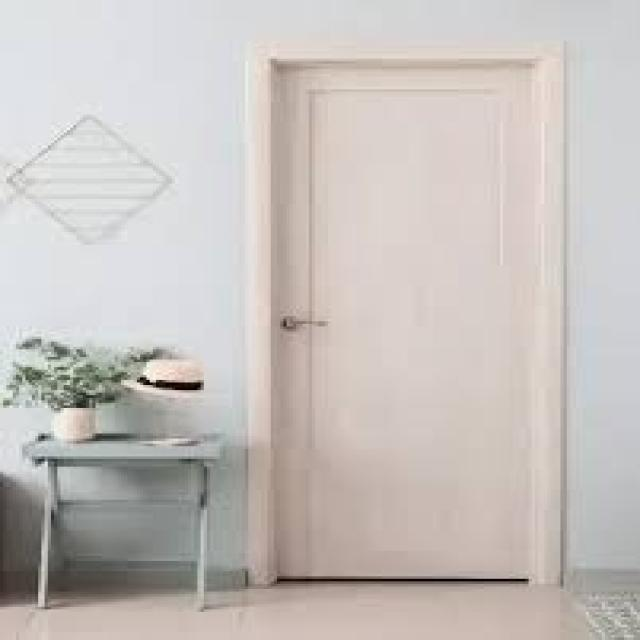door: (267, 50, 564, 582)
